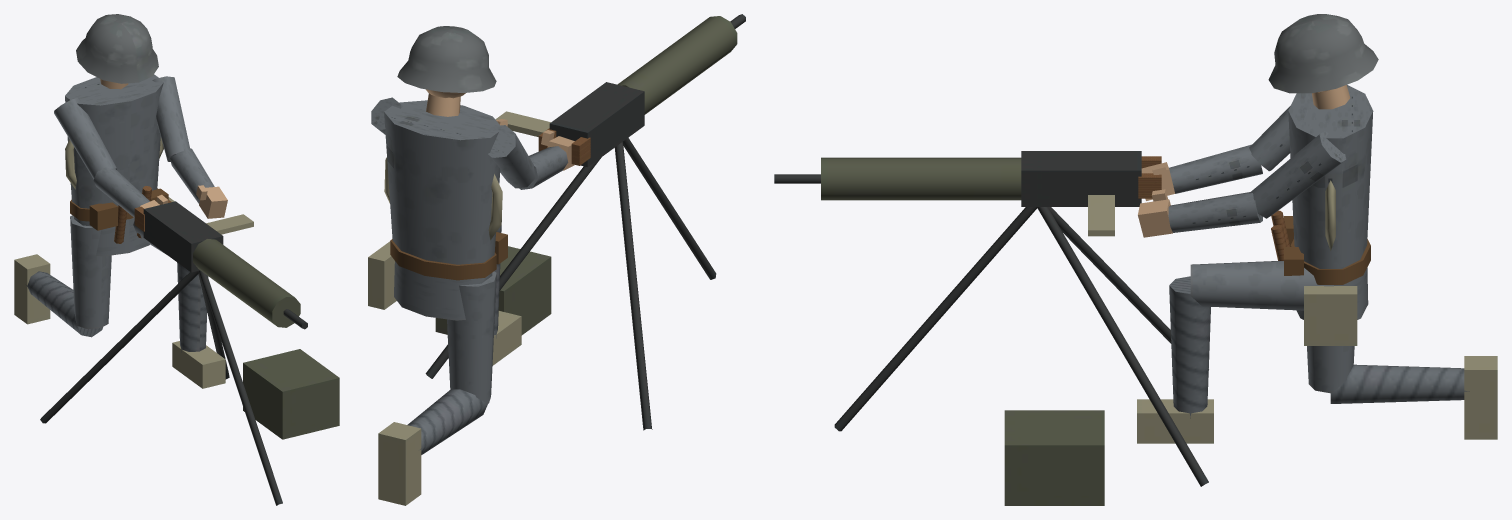
The model's file is infantry-2.glb.
The picture shows the model from 3 angles, left to right: view 1: azimuth 30°, elevation 25°; view 2: azimuth 150°, elevation 25°; view 3: azimuth 270°, elevation 25°; orthographic projection. The views are drawn at different scales.
Visible parts, largest first — view 1: weapon, body, head, shin_left, leg_right, shin_right, arm_right, forearm_left, arm_left, forearm_right; view 2: body, weapon, shin_right, head, leg_right, arm_right, forearm_right, shin_left, arm_left; view 3: weapon, body, shin_right, shin_left, head, leg_left, forearm_left, arm_left, forearm_right, leg_right, arm_right.
Boxes of the visible parts, left/top/right/bottom form: weapon: left=40, top=200, right=339, bottom=505; body: left=65, top=74, right=174, bottom=256; head: left=76, top=14, right=158, bottom=89; shin_left: left=172, top=262, right=225, bottom=388; leg_right: left=70, top=215, right=111, bottom=328; shin_right: left=14, top=254, right=102, bottom=337; arm_right: left=54, top=97, right=116, bottom=179; forearm_left: left=170, top=147, right=227, bottom=218; arm_left: left=152, top=76, right=189, bottom=161; forearm_right: left=93, top=167, right=168, bottom=217; body: left=368, top=100, right=507, bottom=320; weapon: left=425, top=14, right=745, bottom=430; shin_right: left=378, top=389, right=487, bottom=505; head: left=397, top=26, right=496, bottom=116; leg_right: left=447, top=271, right=496, bottom=403; arm_right: left=488, top=125, right=535, bottom=188; forearm_right: left=519, top=130, right=574, bottom=189; shin_left: left=492, top=220, right=521, bottom=365; arm_left: left=371, top=97, right=402, bottom=134; weapon: left=774, top=151, right=1208, bottom=505; body: left=1271, top=85, right=1373, bottom=345; shin_right: left=1330, top=356, right=1497, bottom=439; shin_left: left=1137, top=276, right=1213, bottom=443; head: left=1268, top=14, right=1378, bottom=109; leg_left: left=1190, top=261, right=1333, bottom=310; forearm_left: left=1138, top=189, right=1262, bottom=237; arm_left: left=1249, top=131, right=1346, bottom=218; forearm_right: left=1141, top=144, right=1262, bottom=200; leg_right: left=1307, top=346, right=1354, bottom=393; arm_right: left=1249, top=106, right=1290, bottom=171.
Bounding box in the file's own units: 0.9629 × 1.42 × 2.17.
Materials: 7 (7 with a texture image).
